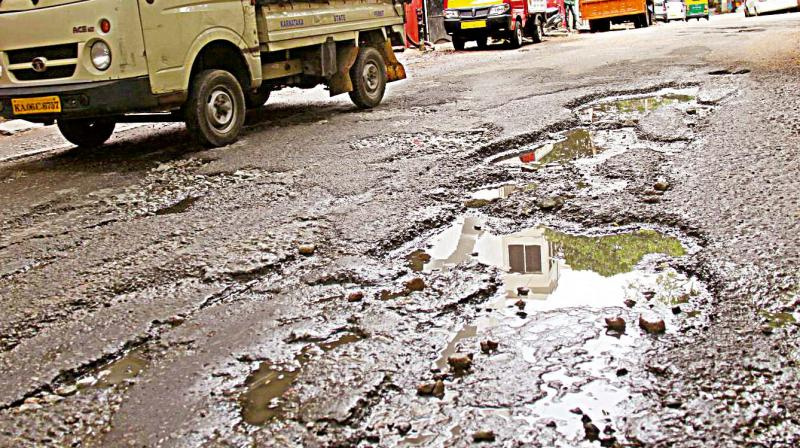pothole: (386, 185, 680, 306), (33, 301, 172, 440), (560, 61, 699, 138), (470, 114, 617, 177), (236, 329, 312, 438), (165, 166, 218, 218)
